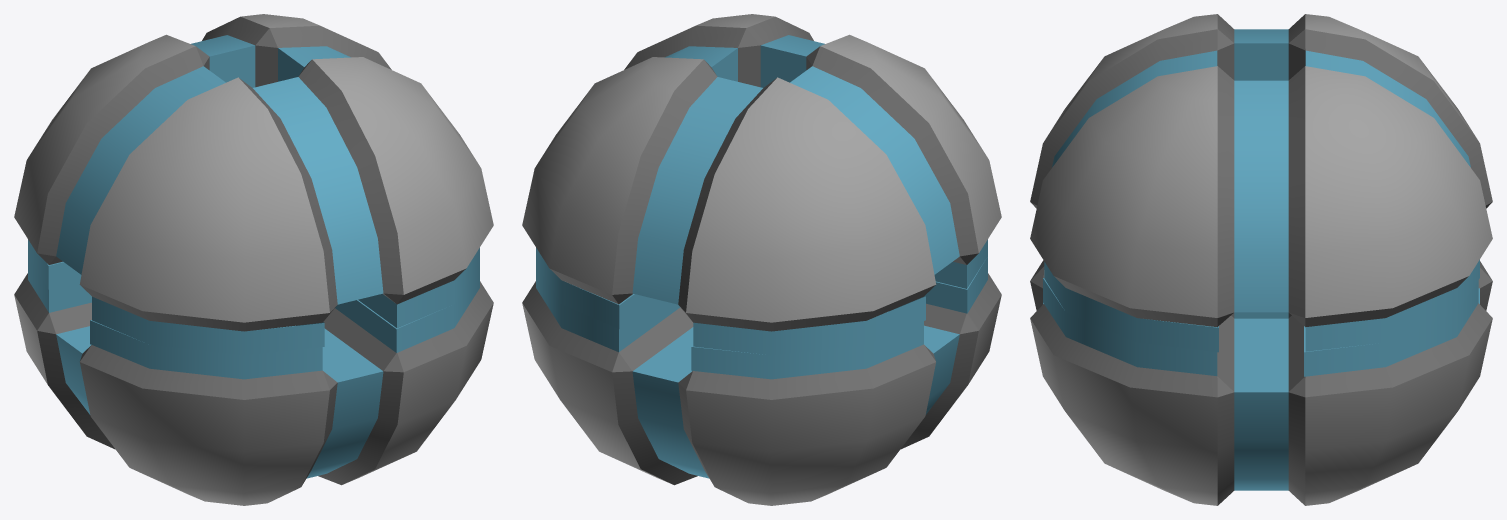
The model's file is Form_Sphere.fbx.
The picture shows the model from 3 angles, left to right: view 1: azimuth 30°, elevation 25°; view 2: azimuth 150°, elevation 25°; view 3: azimuth 270°, elevation 25°; orthographic projection. The views are drawn at different scales.
Visible parts, largest first — view 1: Form_Sphere_P01, Form_Sphere_P05, Form_Sphere_P02, Form_Sphere_P03, Form_Sphere_P06, Form_Sphere_P07, Form_Sphere_P04; view 2: Form_Sphere_P03, Form_Sphere_P07, Form_Sphere_P04, Form_Sphere_P01, Form_Sphere_P08, Form_Sphere_P05, Form_Sphere_P02; view 3: Form_Sphere_P02, Form_Sphere_P04, Form_Sphere_P08, Form_Sphere_P06, Form_Sphere_P01, Form_Sphere_P03, Form_Sphere_P07, Form_Sphere_P05.
Boxes of the visible parts, left/top/right/bottom form: Form_Sphere_P01: left=69, top=76, right=360, bottom=355; Form_Sphere_P05: left=69, top=320, right=360, bottom=505; Form_Sphere_P02: left=275, top=56, right=493, bottom=328; Form_Sphere_P03: left=14, top=34, right=232, bottom=289; Form_Sphere_P06: left=306, top=264, right=493, bottom=485; Form_Sphere_P07: left=14, top=256, right=115, bottom=449; Form_Sphere_P04: left=202, top=14, right=391, bottom=87; Form_Sphere_P03: left=655, top=76, right=946, bottom=355; Form_Sphere_P07: left=655, top=321, right=946, bottom=505; Form_Sphere_P04: left=522, top=56, right=740, bottom=329; Form_Sphere_P01: left=783, top=34, right=1001, bottom=288; Form_Sphere_P08: left=522, top=264, right=709, bottom=485; Form_Sphere_P05: left=900, top=256, right=1001, bottom=449; Form_Sphere_P02: left=624, top=14, right=813, bottom=87; Form_Sphere_P02: left=1030, top=62, right=1261, bottom=352; Form_Sphere_P04: left=1261, top=62, right=1492, bottom=351; Form_Sphere_P08: left=1261, top=280, right=1492, bottom=505; Form_Sphere_P06: left=1030, top=278, right=1261, bottom=505; Form_Sphere_P01: left=1030, top=14, right=1261, bottom=208; Form_Sphere_P03: left=1261, top=14, right=1492, bottom=208; Form_Sphere_P07: left=1261, top=261, right=1492, bottom=318; Form_Sphere_P05: left=1030, top=260, right=1261, bottom=318.
Size of the model in its own units: 54.55 by 55.24 by 54.55.
